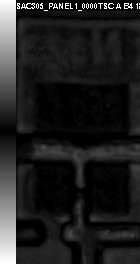led: (34, 83, 130, 213)
